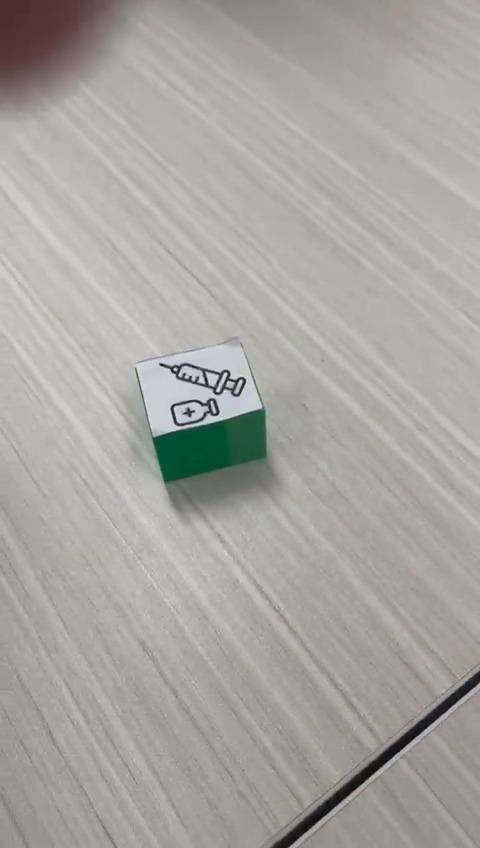antiseptic cream: (133, 335, 268, 483)
